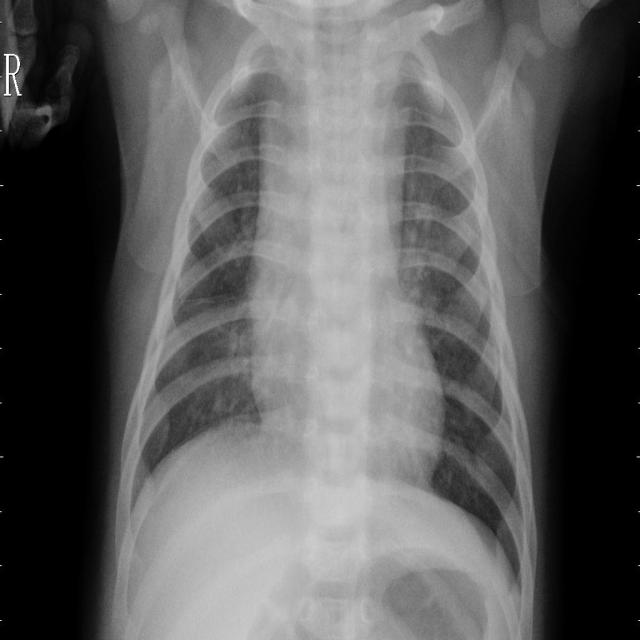low-pneumonia: (401, 185, 459, 363), (196, 83, 249, 228), (383, 67, 417, 227), (219, 283, 258, 403)
